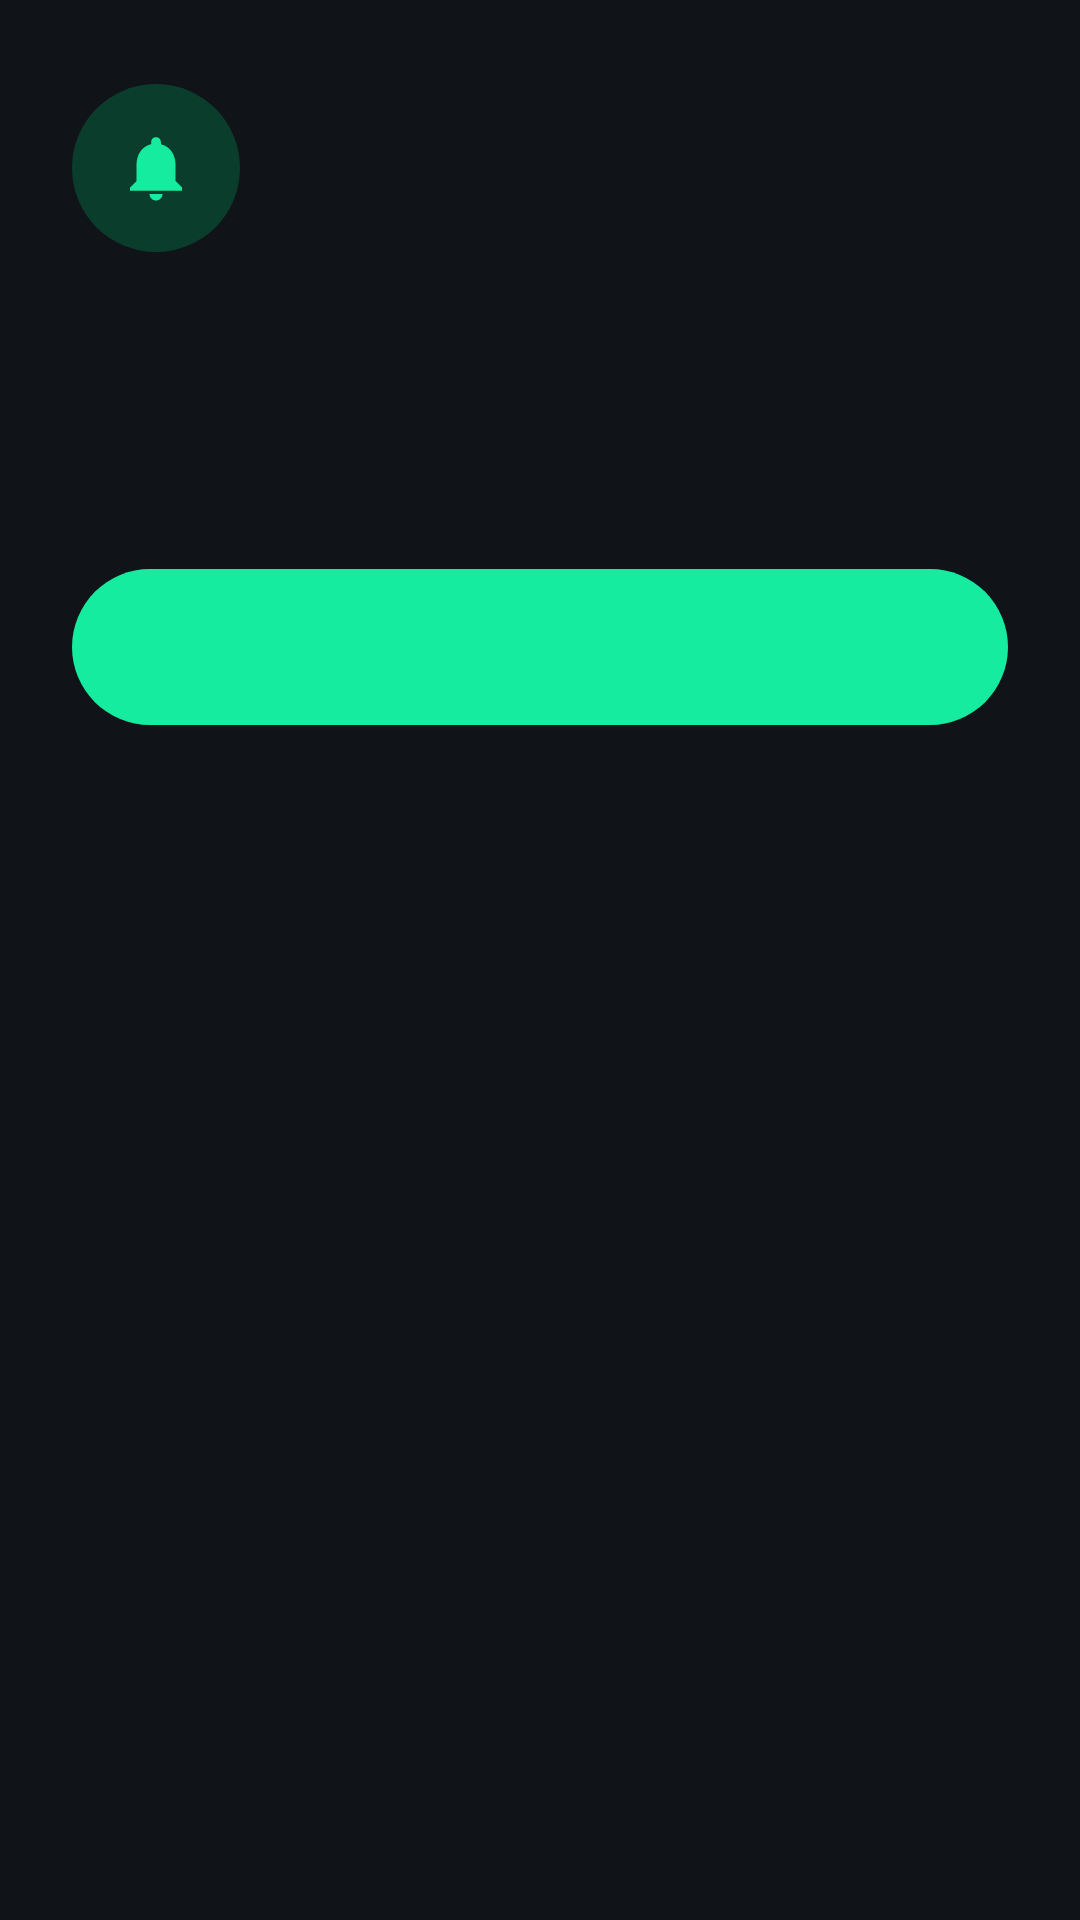

Icons on this 1080w x 1920h Android screen, each with its box as (x1, y1, x2, y2):
bell: (72, 84, 240, 252)
